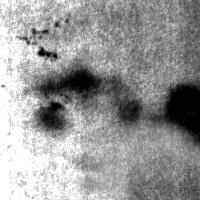patches: (85, 111, 200, 200), (129, 159, 200, 200), (160, 82, 200, 144), (31, 67, 105, 96), (34, 101, 66, 129), (117, 99, 142, 124)
